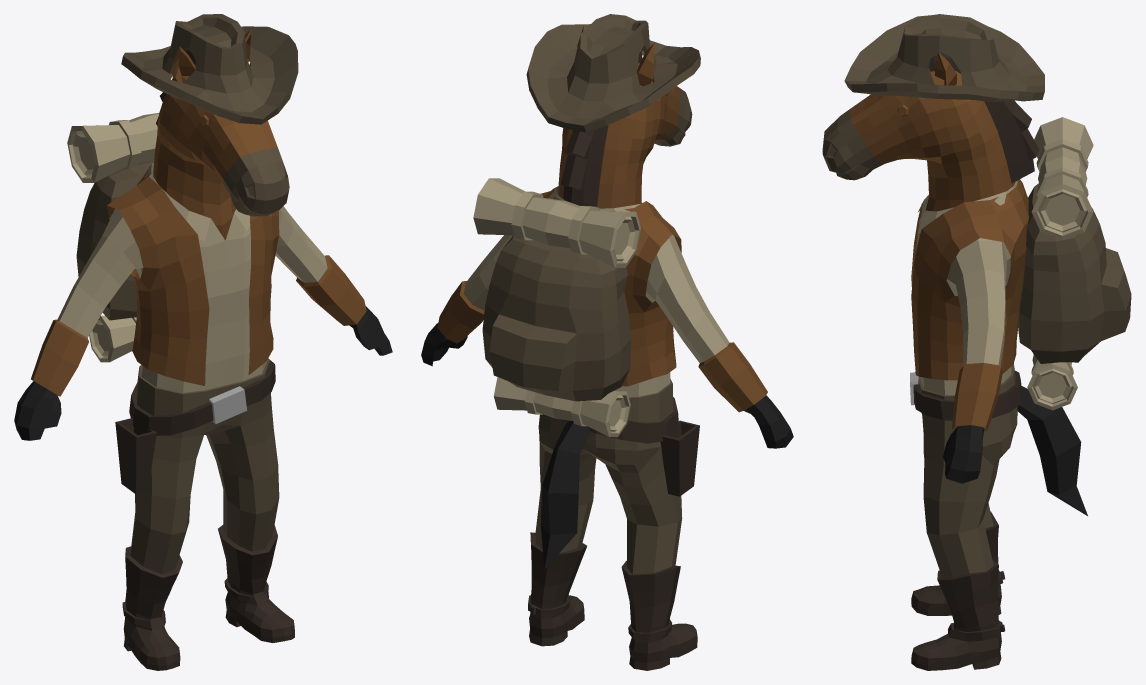
The model's file is PersonaggioHARD.fbx.
3 renders of one model, left to right at view 1: azimuth 30°, elevation 25°; view 2: azimuth 150°, elevation 25°; view 3: azimuth 270°, elevation 25°, orthographic.
Parts seen in each view (by area): view 1: group4_polySurface45; view 2: group4_polySurface45; view 3: group4_polySurface45.
Boxes of the visible parts, bbox=[...] form: group4_polySurface45: bbox=[14, 14, 392, 670]; group4_polySurface45: bbox=[421, 14, 793, 670]; group4_polySurface45: bbox=[822, 14, 1131, 670].
Size of the model in its own units: 139 by 224 by 103.
